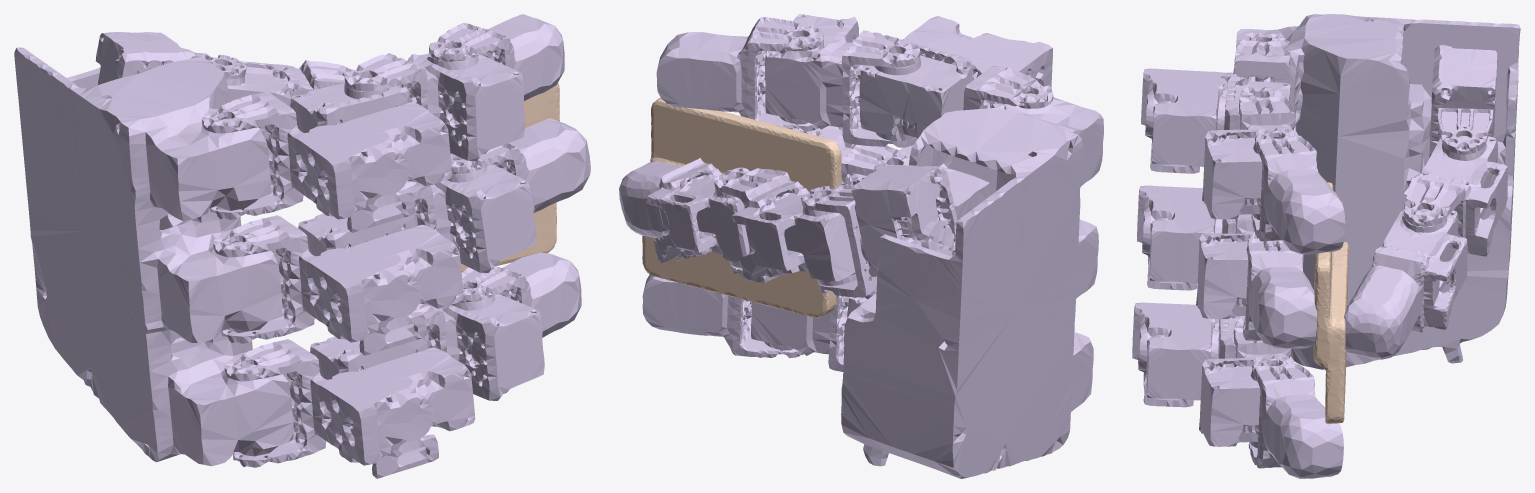
Rendered from 70a8dfc47ac28c-closed.glb.
3 renders of one model, left to right at view 1: azimuth 30°, elevation 25°; view 2: azimuth 150°, elevation 25°; view 3: azimuth 270°, elevation 25°, orthographic. The views are drawn at different scales.
Visible parts, largest first — view 1: LEAP_hand, world; view 2: LEAP_hand, world; view 3: LEAP_hand, world.
Boxes of the visible parts, x1,y1,x2,y2 form: LEAP_hand: [14, 14, 590, 478]; world: [460, 83, 559, 271]; LEAP_hand: [619, 14, 1103, 478]; world: [642, 97, 841, 317]; LEAP_hand: [1132, 14, 1520, 478]; world: [1313, 182, 1348, 423].
Size of the model in its own units: 0.1727 by 0.1306 by 0.1415.
